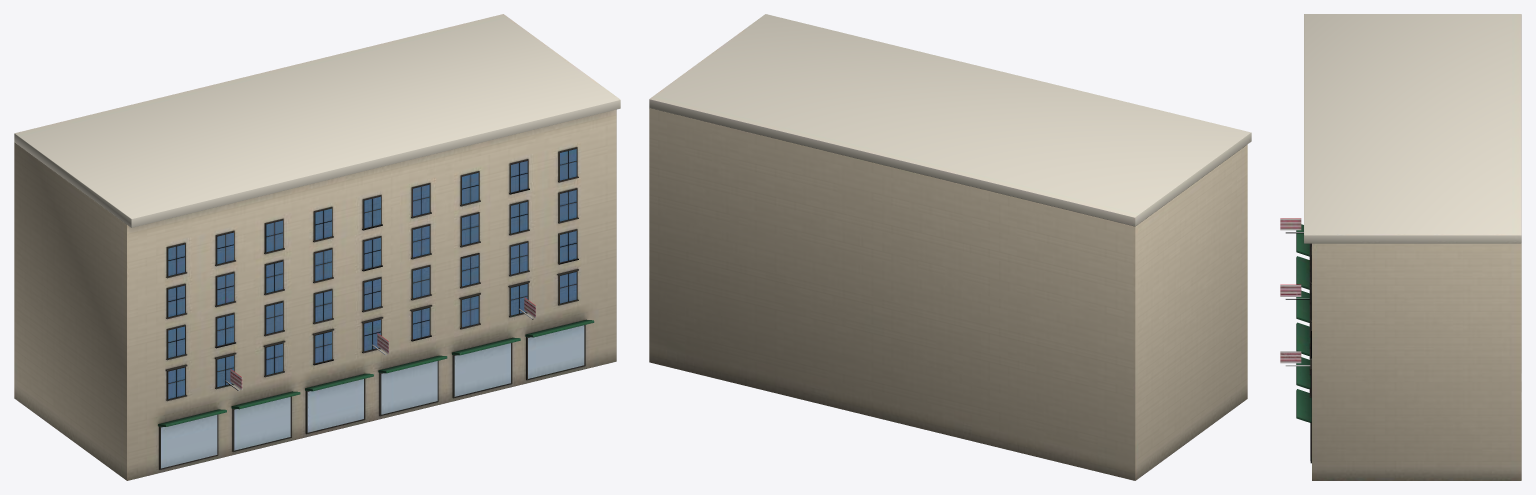
File: saks.glb
3 views of the same model, side by side, from view 1: azimuth 30°, elevation 25°; view 2: azimuth 150°, elevation 25°; view 3: azimuth 270°, elevation 25° (orthographic). The views are drawn at different scales.
Visible parts, largest first — view 1: saks; view 2: saks; view 3: saks.
Boxes of the visible parts, x1,y1,x2,y2 form: saks: (14,14,620,480); saks: (649,14,1251,480); saks: (1280,14,1521,480).
Bounding box in the file's own units: 40 × 20.7 × 18.4.
Materials: 1 (1 with a texture image).
